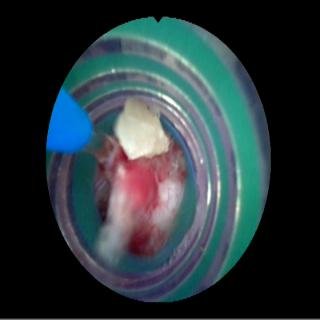fiber: (49, 91, 91, 152)
stone: (116, 100, 168, 158)
